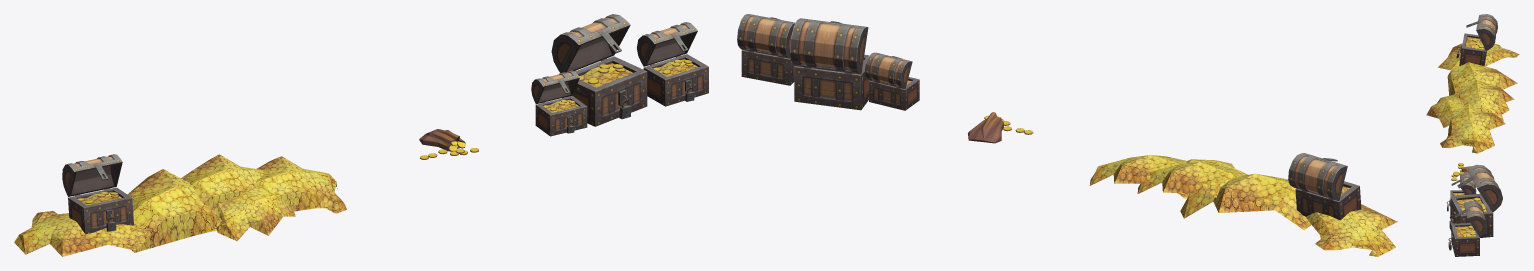
The model's file is Area_06_26.fbx.
3 views of the same model, side by side, from view 1: azimuth 30°, elevation 25°; view 2: azimuth 150°, elevation 25°; view 3: azimuth 270°, elevation 25° (orthographic). The views are drawn at different scales.
Parts seen in each view (by area): view 1: Area_06_26; view 2: Area_06_26; view 3: Area_06_26.
Boxes of the visible parts, left/top/right/bottom form: Area_06_26: left=14, top=14, right=708, bottom=256; Area_06_26: left=737, top=14, right=1397, bottom=256; Area_06_26: left=1426, top=14, right=1519, bottom=256.
Bounding box in the file's own units: 2262 × 314 × 410.
